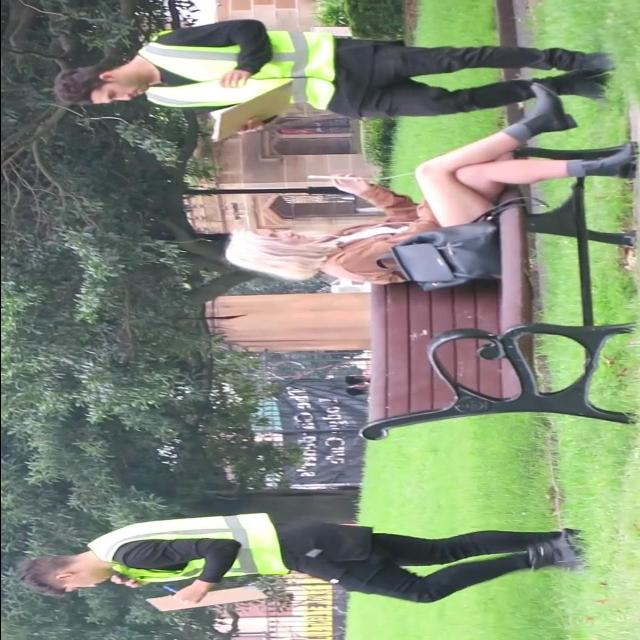jacket: (136, 16, 344, 119), (82, 511, 298, 586)
